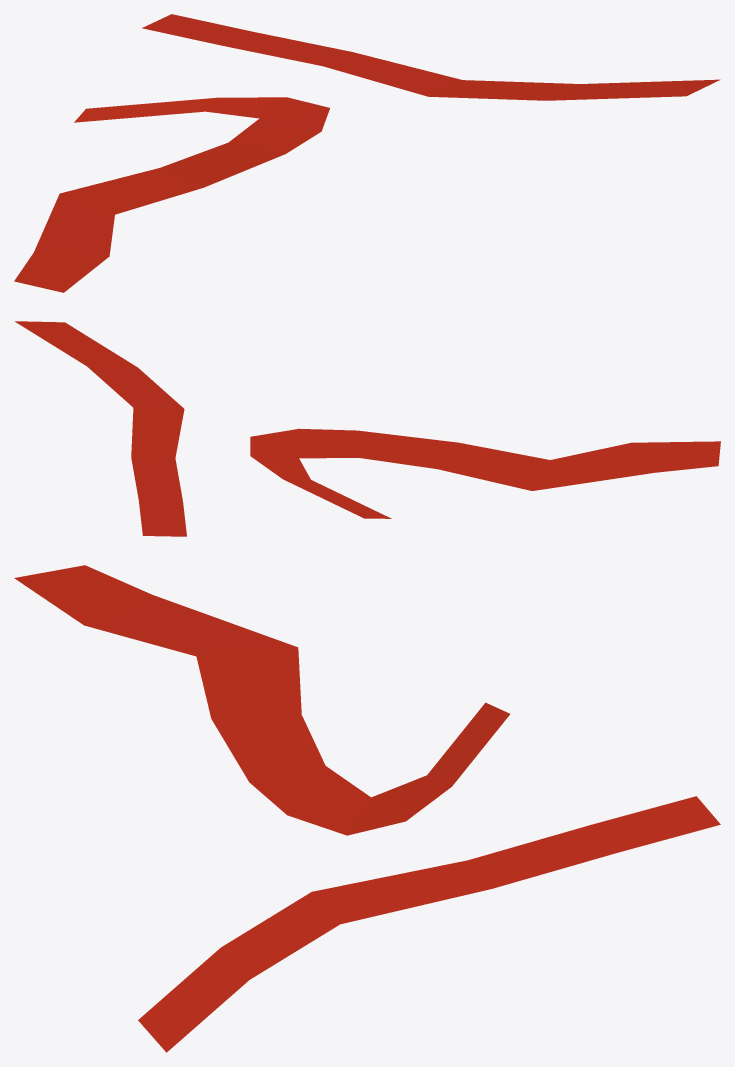
The model's file is foam.FBX.
3 views of the same model, one above another, from view 1: azimuth 30°, elevation 25°; view 2: azimuth 150°, elevation 25°; view 3: azimuth 270°, elevation 25° (orthographic). The views are drawn at different scales.
Parts seen in each view (by area): view 1: Object02; view 2: Object02; view 3: Object02.
Part boxes in pixels (x1,y1,x2,y2): Object02: [14, 14, 720, 292]; Object02: [15, 321, 720, 536]; Object02: [14, 565, 720, 1052].
Bounding box in the file's own units: 5522 × 3383 × 14.26.
1 material, 1 textured.
